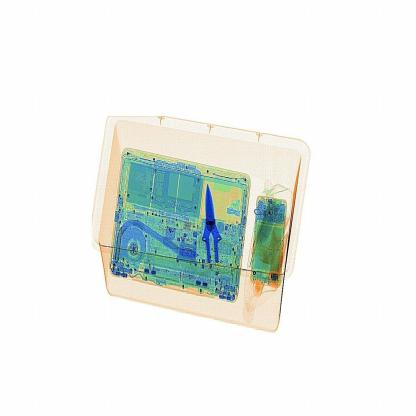gun: (185, 172, 241, 284)
